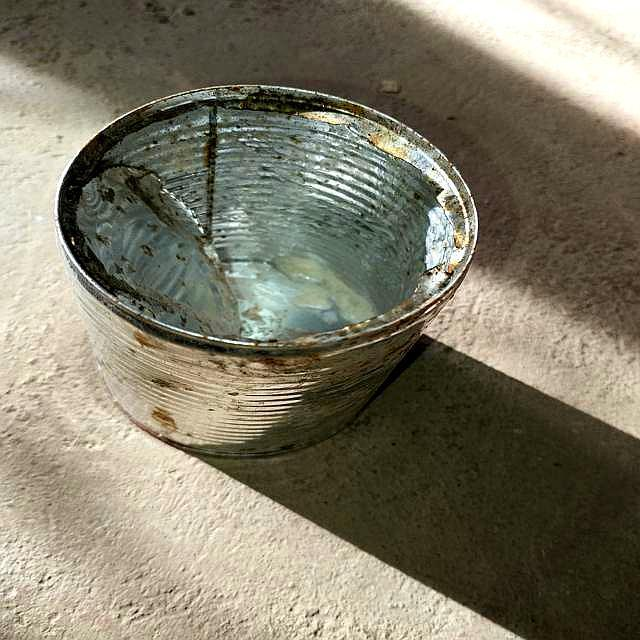Non-biodegradable: (55, 82, 481, 459)
